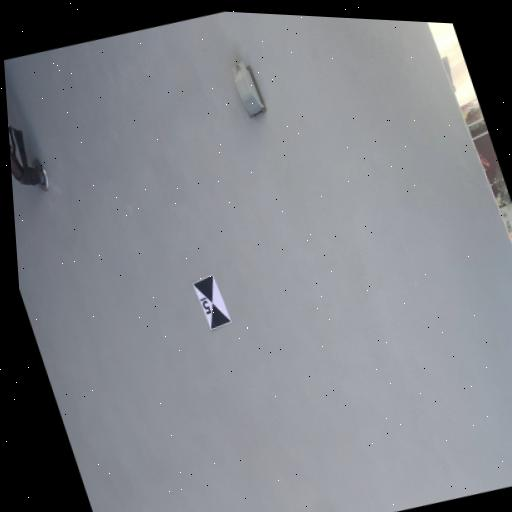target5: (192, 274, 233, 332)
